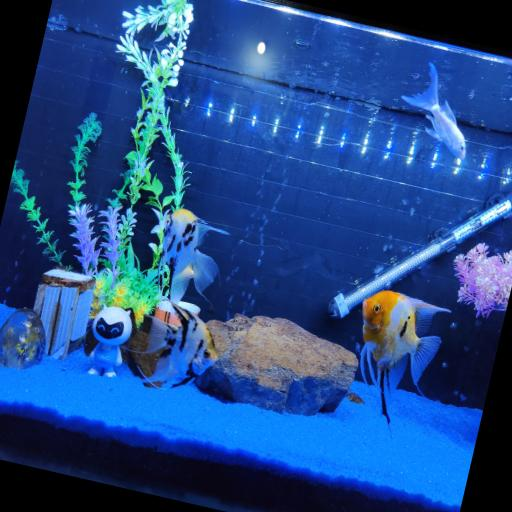Fish: (360, 291, 450, 423), (161, 209, 229, 303), (402, 63, 465, 159), (146, 303, 217, 388)
